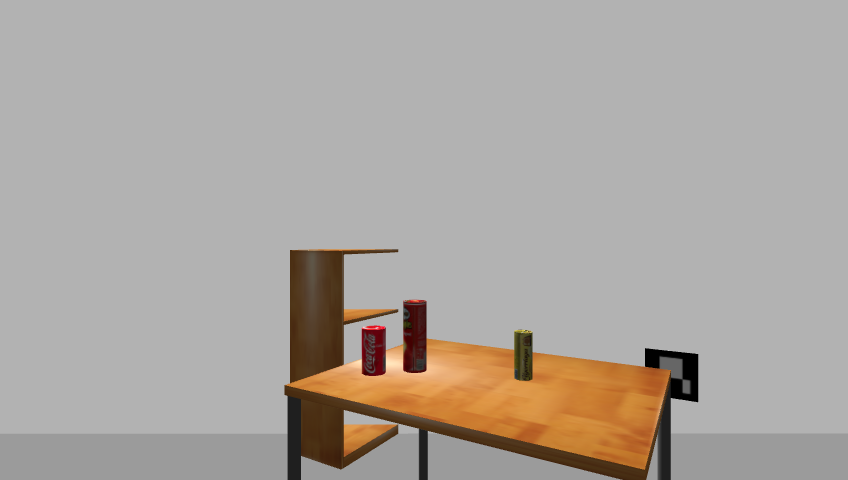aruco marker: (640, 346, 705, 405)
biscuits pack: (513, 329, 534, 382)
bookshelf: (285, 245, 404, 476)
coke can: (359, 325, 388, 377)
dinner table: (277, 339, 677, 479)
pringles can: (400, 299, 429, 375)
